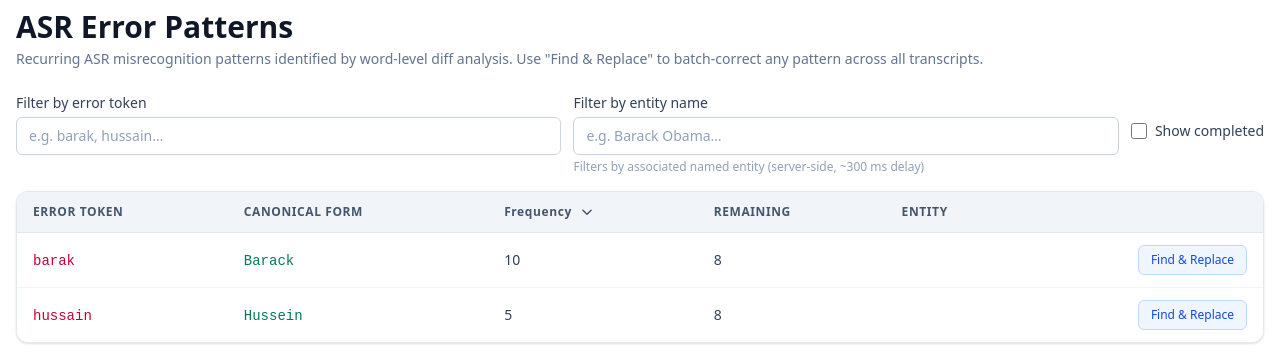
Test case: DiffAnalysisPage › filters rows by error token when user types in the filter input
Expected: the text "barak" is shown, [33, 252, 75, 268]
Expected: the text "hussain" is shown, [33, 308, 92, 324]
Type "barak" into the search field named "filter patterns by error token" at (289, 136), box [16, 117, 561, 155]
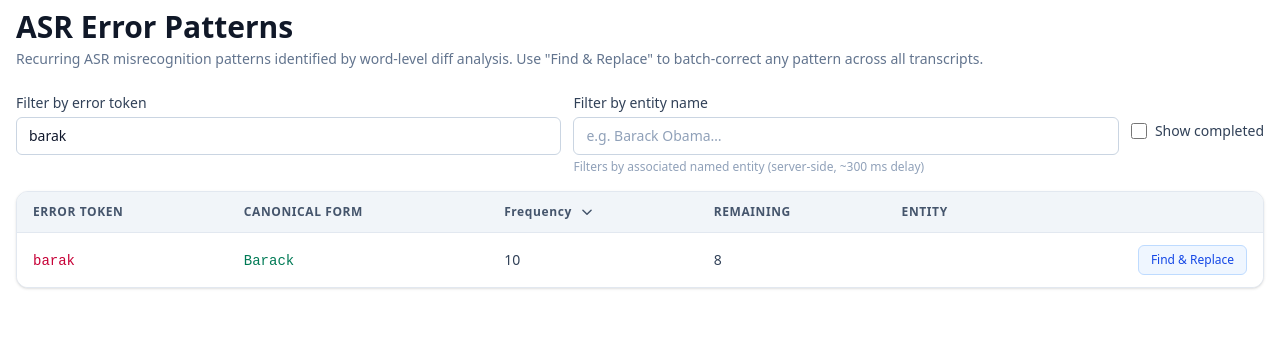
Expected: the text "barak" is shown, [33, 252, 75, 268]
Expected: the text "hussain" is gone
